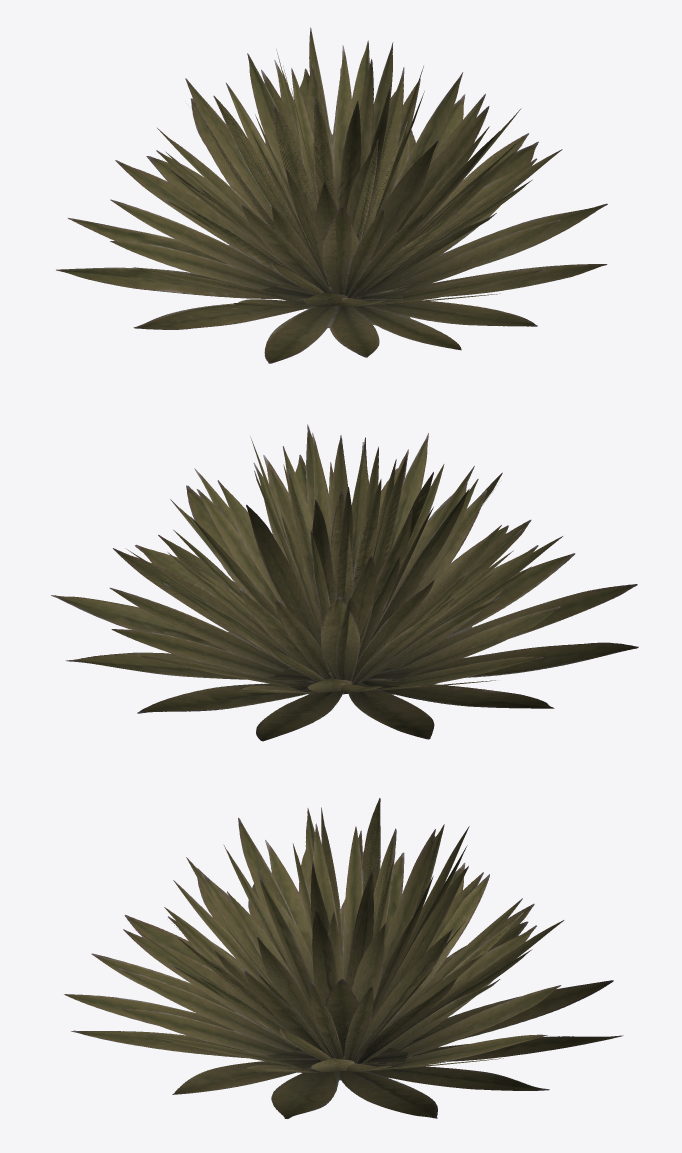
The model's file is SC_tamalagebi_24.FBX.
The picture shows the model from 3 angles, top to bottom: view 1: azimuth 30°, elevation 25°; view 2: azimuth 150°, elevation 25°; view 3: azimuth 270°, elevation 25°; orthographic projection.
Visible parts, largest first — view 1: SC_tamalagebi_24; view 2: SC_tamalagebi_24; view 3: SC_tamalagebi_24.
Boxes of the visible parts, bbox=[...] form: SC_tamalagebi_24: bbox=[56, 27, 607, 363]; SC_tamalagebi_24: bbox=[51, 424, 638, 741]; SC_tamalagebi_24: bbox=[64, 798, 623, 1118].
Size of the model in its own units: 164 by 70.21 by 162.
